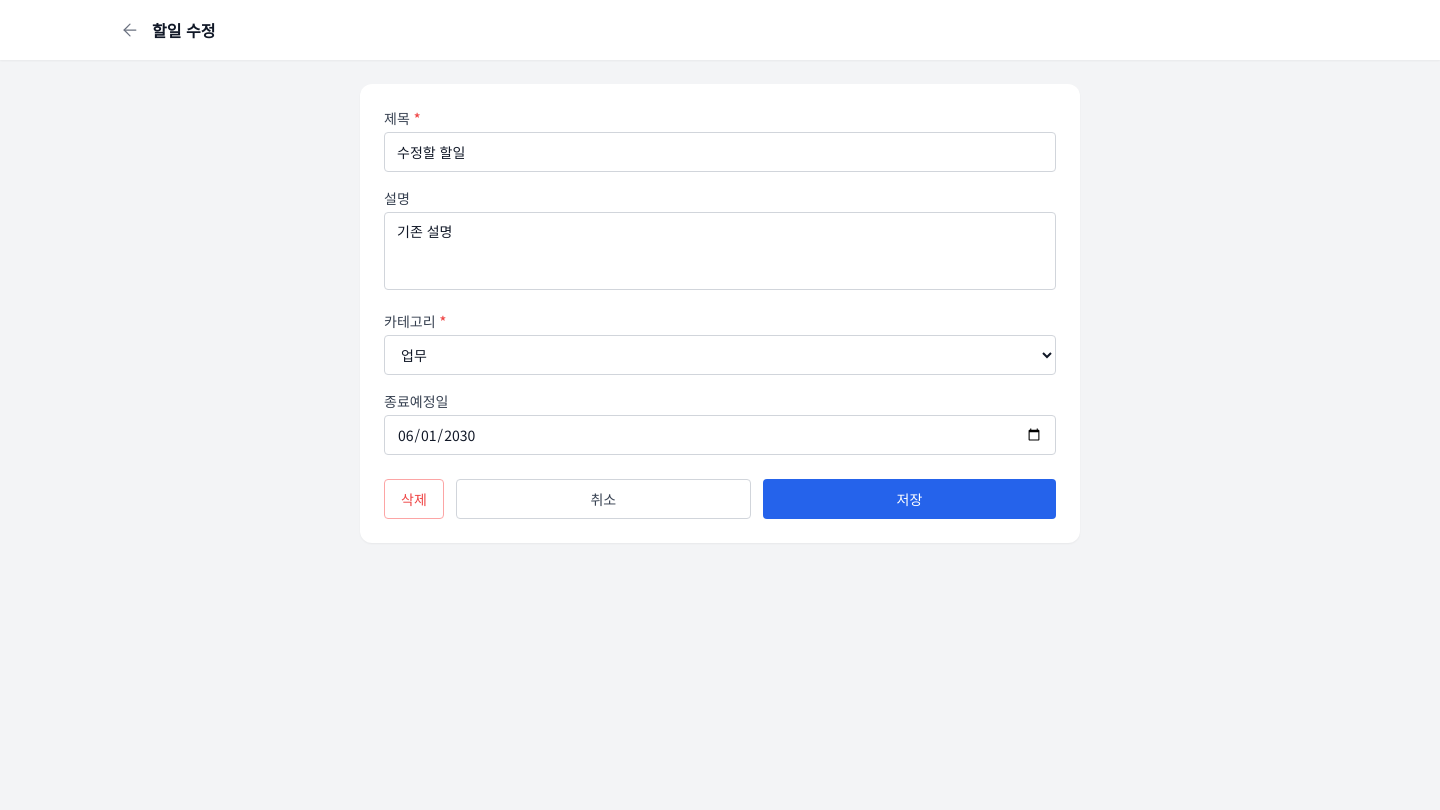
Test case: Todos Integration › 할일 삭제 모달 확인 후 /todos로 이동
The width and height of the screenshot is (1440, 810).
Click the button labelled "삭제".
click(414, 499)  # box [384,479,444,519]
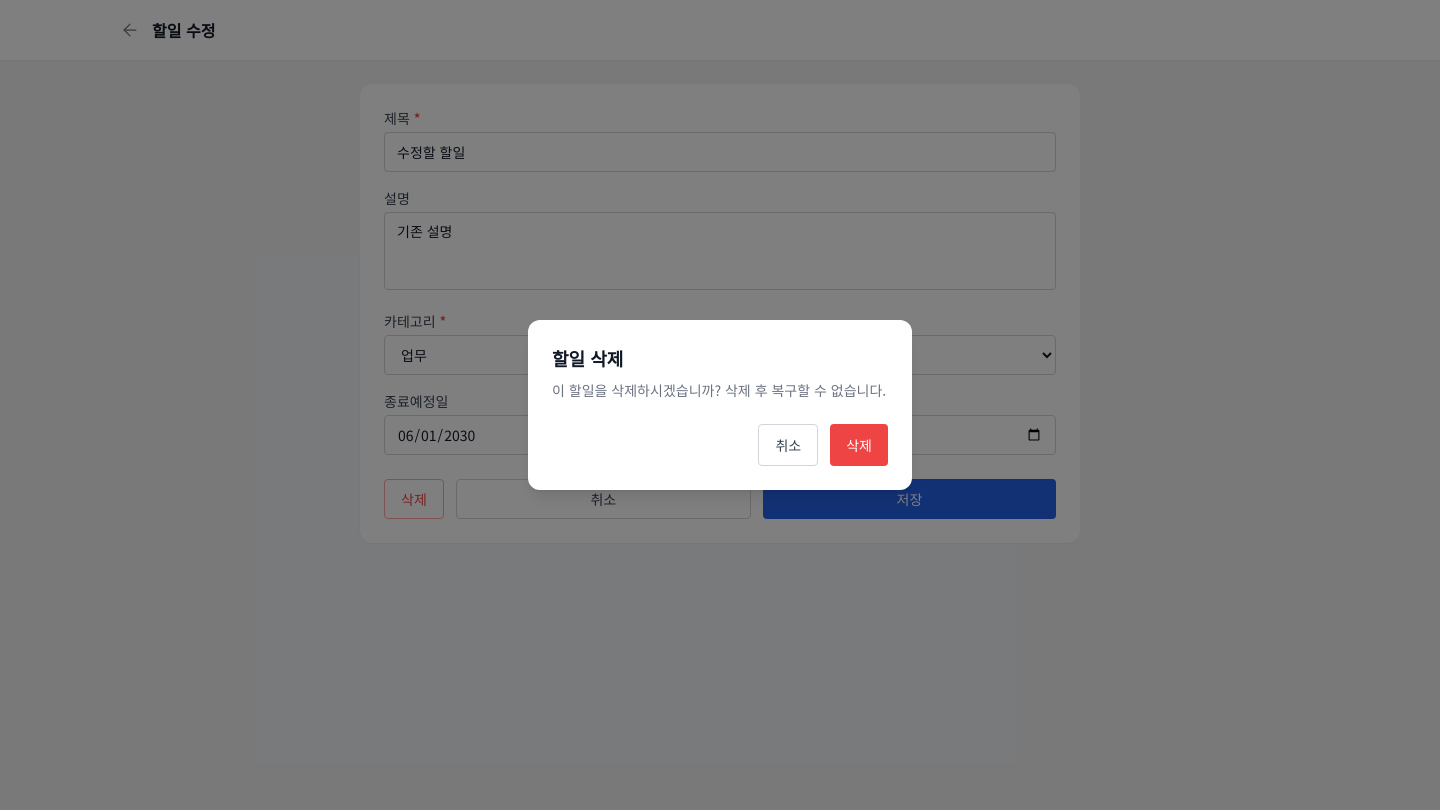
Expected: the text "이 할일을 삭제하시겠습니까? 삭제 후 복구할 수 없습니다." is shown, [552,380,888,400]
Click the button "삭제".
click(859, 445)  # box [830,424,888,466]
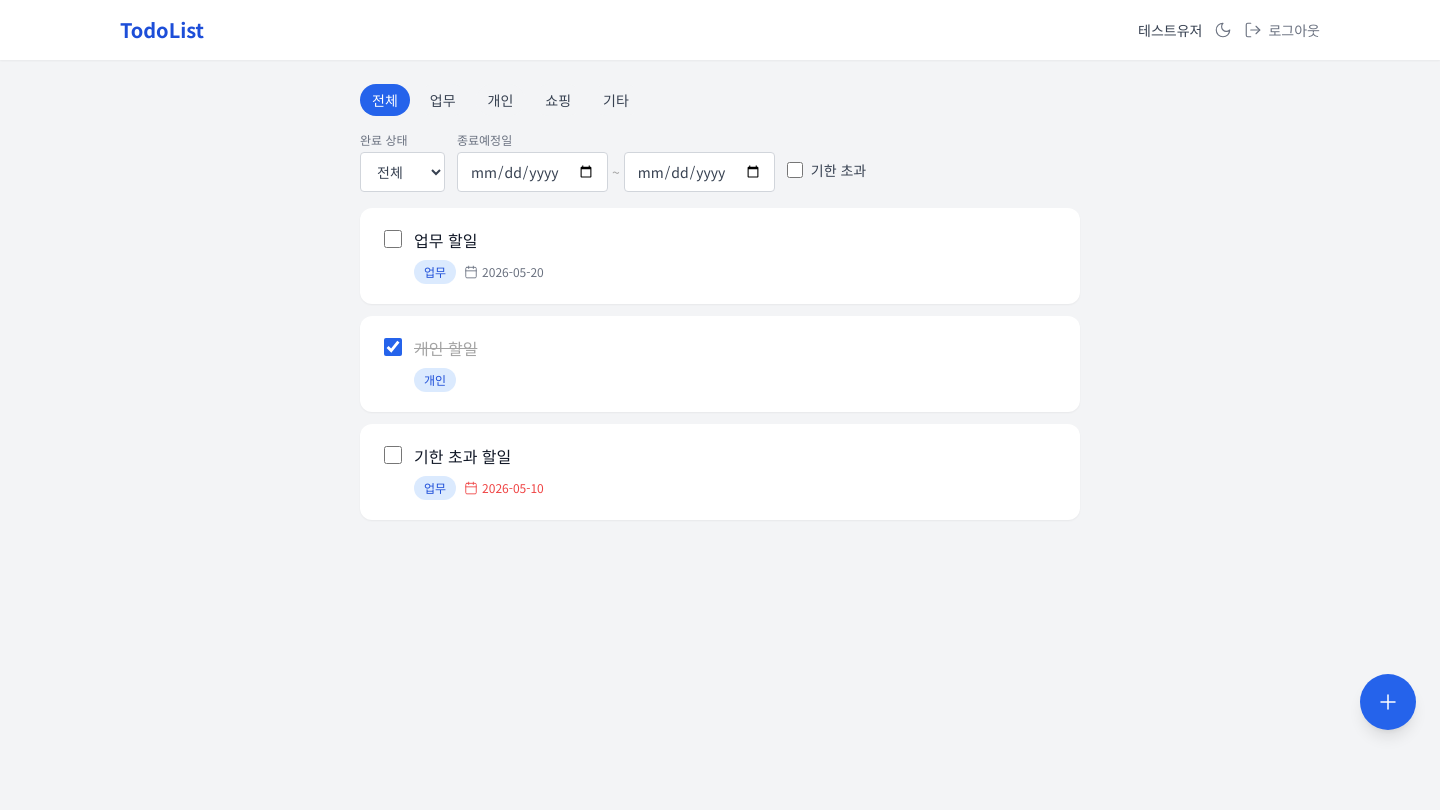
Expected: the element with test id "todo-list-page" is shown
